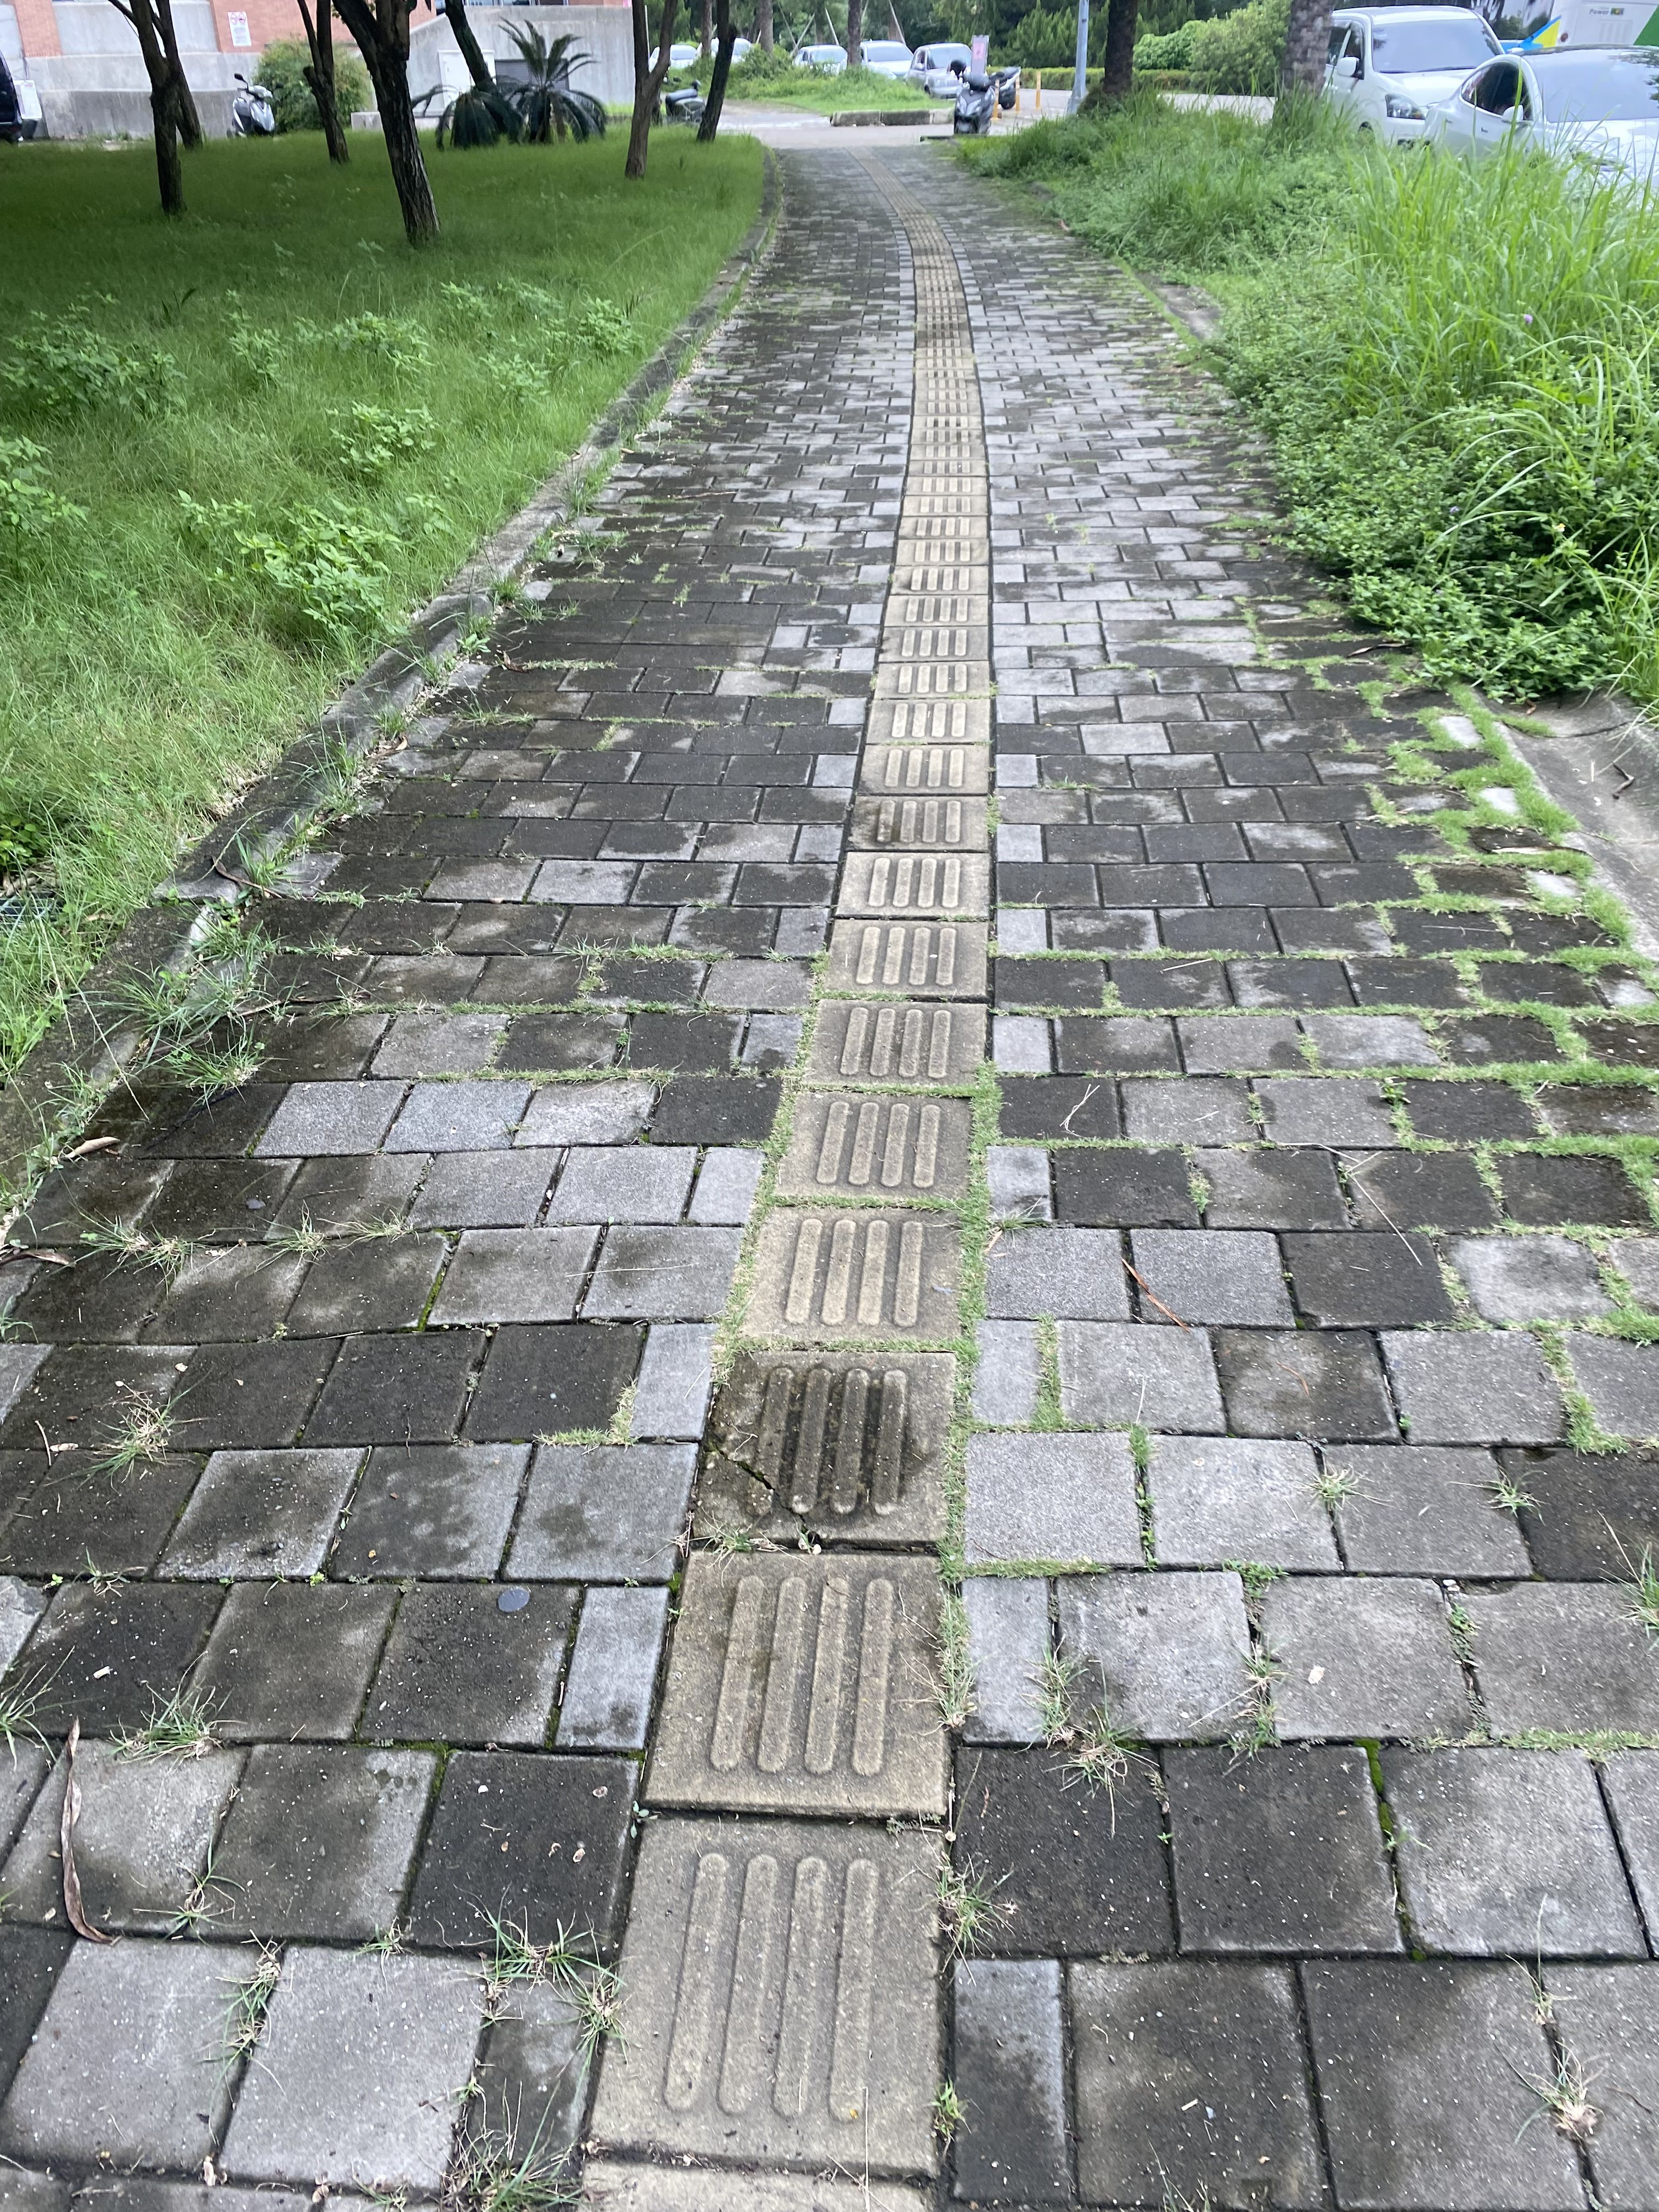sidewalk: (0, 111, 1659, 2212)
